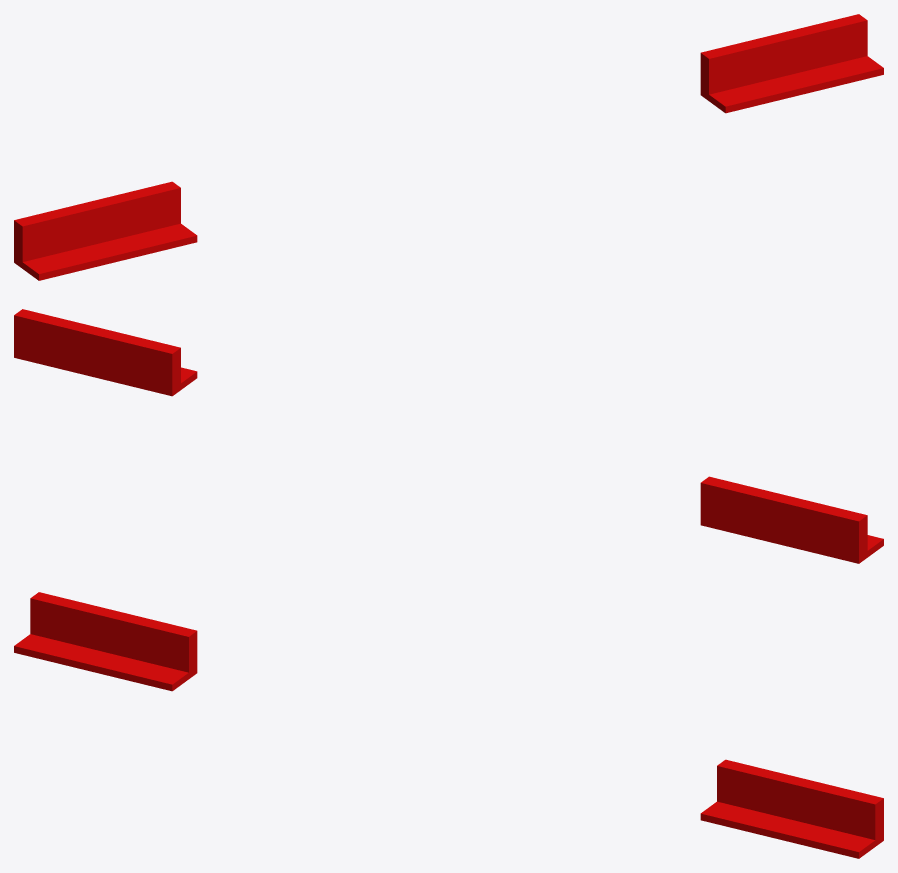
File: SM_DoubleDoorWallSkirtingCollider.fbx
3 renders of one model, top to bottom at view 1: azimuth 30°, elevation 25°; view 2: azimuth 150°, elevation 25°; view 3: azimuth 330°, elevation 25°, orthographic.
Visible parts, largest first — view 1: DoubleDoorWallSkirtingCollision; view 2: DoubleDoorWallSkirtingCollision; view 3: DoubleDoorWallSkirtingCollision.
Boxes of the visible parts, <box> form: DoubleDoorWallSkirtingCollision: <box>14,14,883,280</box>; DoubleDoorWallSkirtingCollision: <box>14,309,883,563</box>; DoubleDoorWallSkirtingCollision: <box>14,592,883,858</box>.
Size of the model in its own units: 400 by 19.2 by 20.48.
